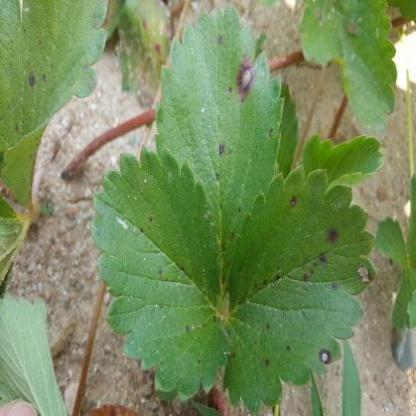Strawberry_Leaf_Spot: (222, 165, 378, 413), (154, 2, 285, 283), (89, 146, 230, 404), (0, 0, 111, 209)
